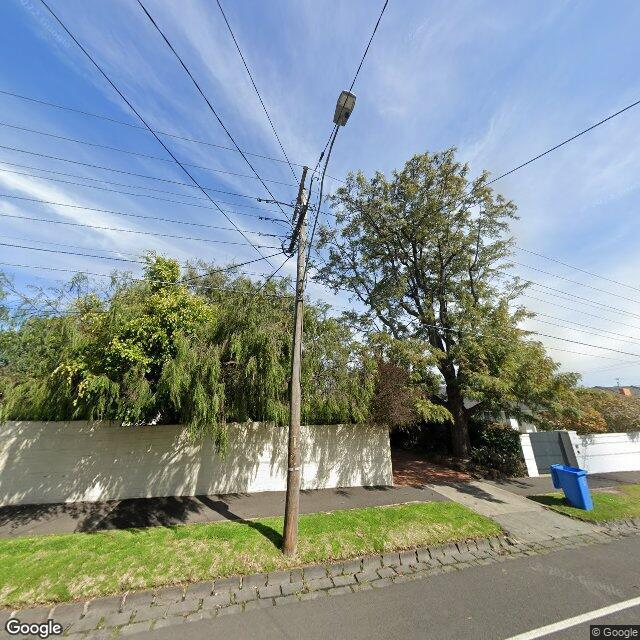crossarm: (289, 204, 307, 253), (293, 166, 308, 221)
streetlight: (297, 90, 357, 301)
timber-pole: (282, 189, 307, 559)
